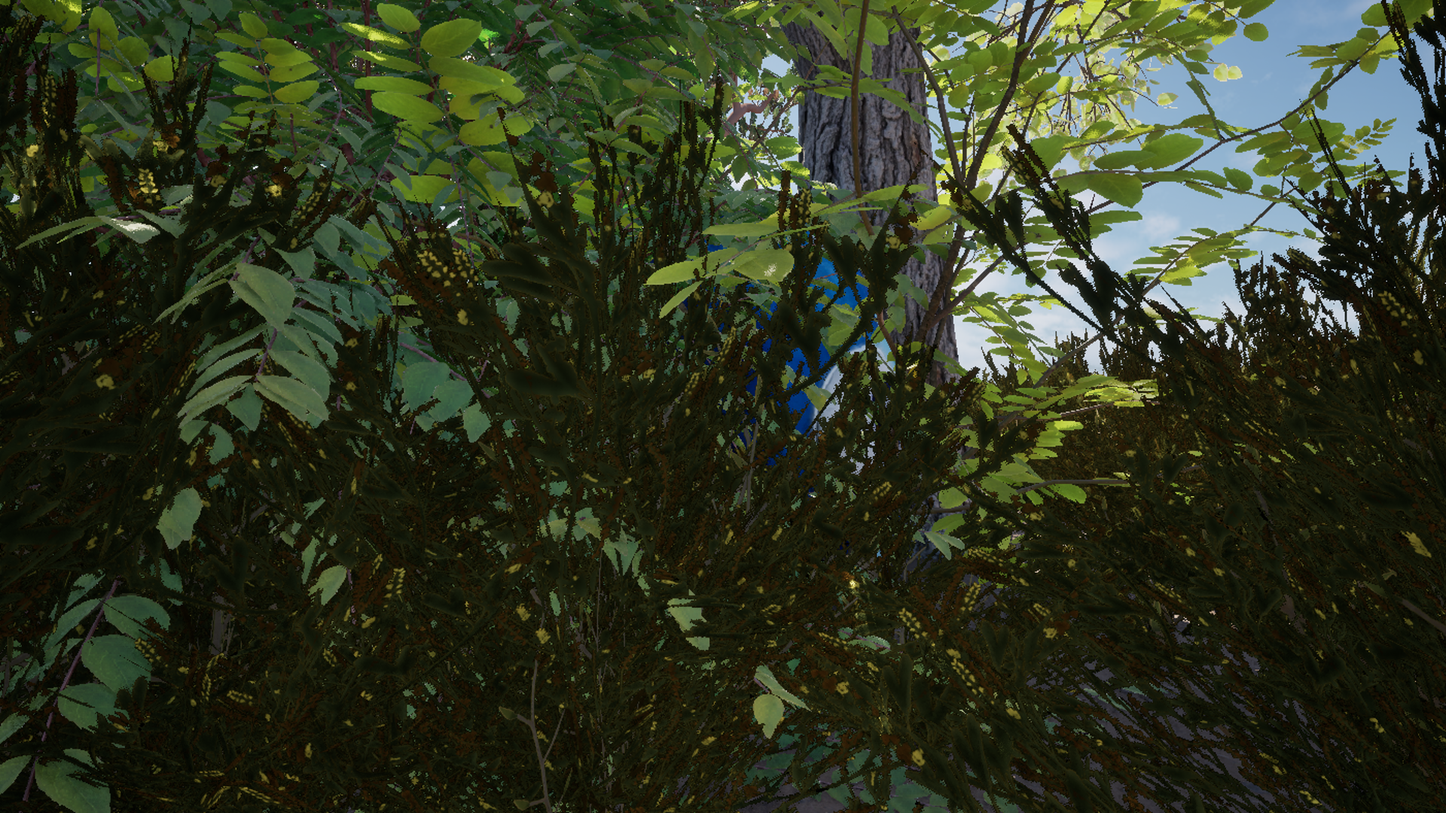Piplup: (346, 0, 1100, 813)
